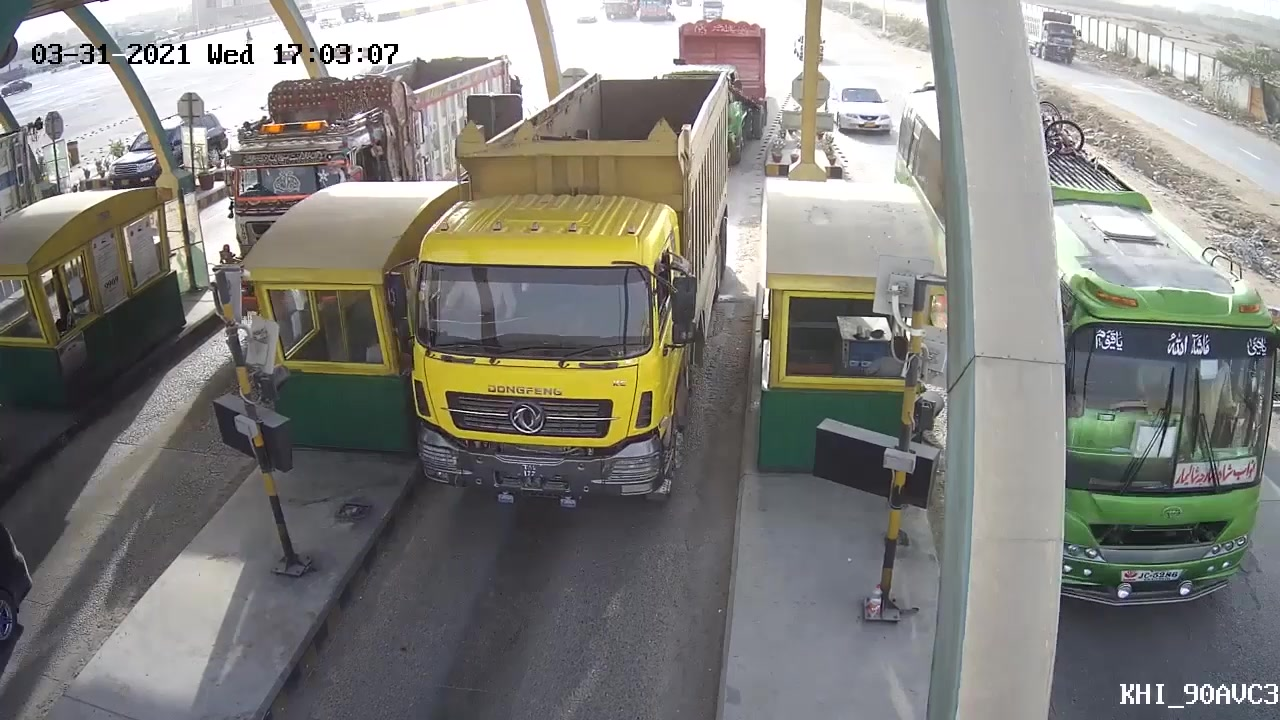F5: (399, 64, 742, 514)
